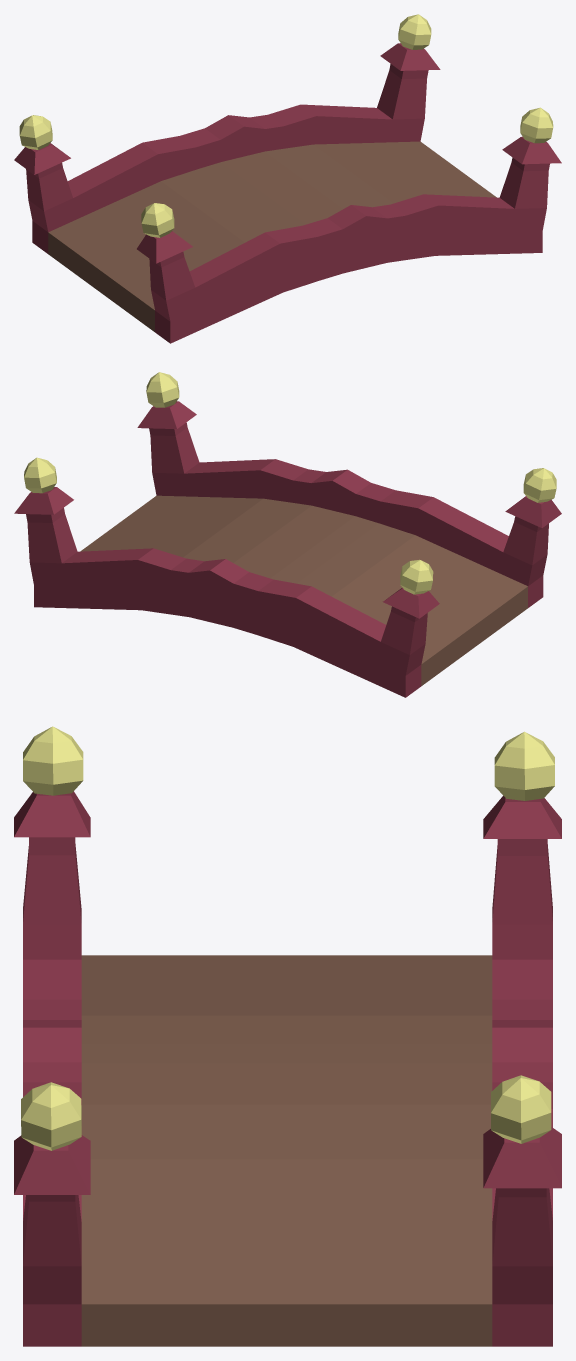
File: Bridge.fbx
The picture shows the model from 3 angles, top to bottom: view 1: azimuth 30°, elevation 25°; view 2: azimuth 150°, elevation 25°; view 3: azimuth 270°, elevation 25°; orthographic projection. The views are drawn at different scales.
Parts seen in each view (by area): view 1: Bro, Brosphere4, Brosphere3, Brosphere, Brosphere2; view 2: Bro, Brosphere4, Brosphere2, Brosphere3, Brosphere; view 3: Bro, Brosphere, Brosphere2, Brosphere3, Brosphere4.
Boxes of the visible parts, x1=… form: Bro: x1=14, y1=43, x2=561, y2=343; Brosphere4: x1=141, y1=203, x2=174, y2=237; Brosphere3: x1=19, y1=115, x2=52, y2=149; Brosphere: x1=398, y1=14, x2=431, y2=49; Brosphere2: x1=520, y1=107, x2=553, y2=143; Bro: x1=14, y1=401, x2=561, y2=697; Brosphere4: x1=523, y1=468, x2=556, y2=502; Brosphere2: x1=146, y1=372, x2=179, y2=407; Brosphere3: x1=400, y1=559, x2=433, y2=594; Brosphere: x1=24, y1=457, x2=56, y2=493; Bro: x1=14, y1=791, x2=561, y2=1346; Brosphere: x1=491, y1=1075, x2=551, y2=1143; Brosphere2: x1=21, y1=1082, x2=81, y2=1150; Brosphere3: x1=494, y1=731, x2=554, y2=800; Brosphere4: x1=23, y1=726, x2=83, y2=795.
Bounding box in the file's own units: 19.6 × 6.48 × 11.76.
